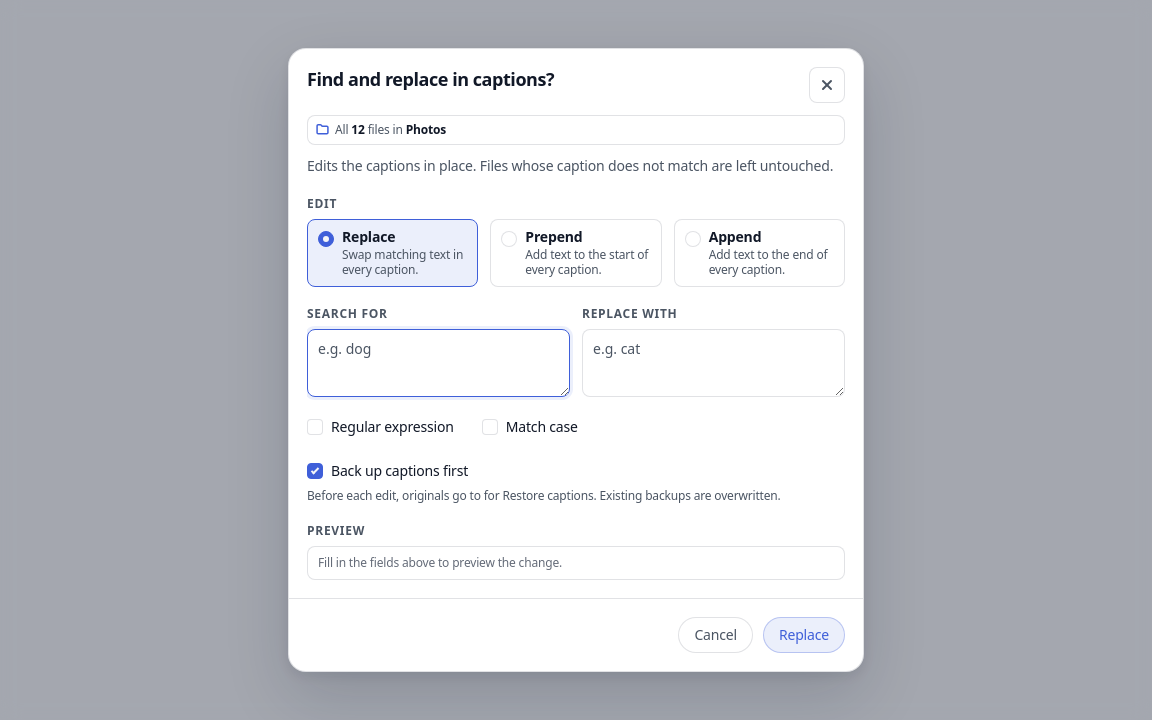
ReplaceCaptionsDialog › refuses to submit without a search term
This screenshot has width=1152, height=720.
Click the button "Replace" at (804, 635), box [763,617,845,653]
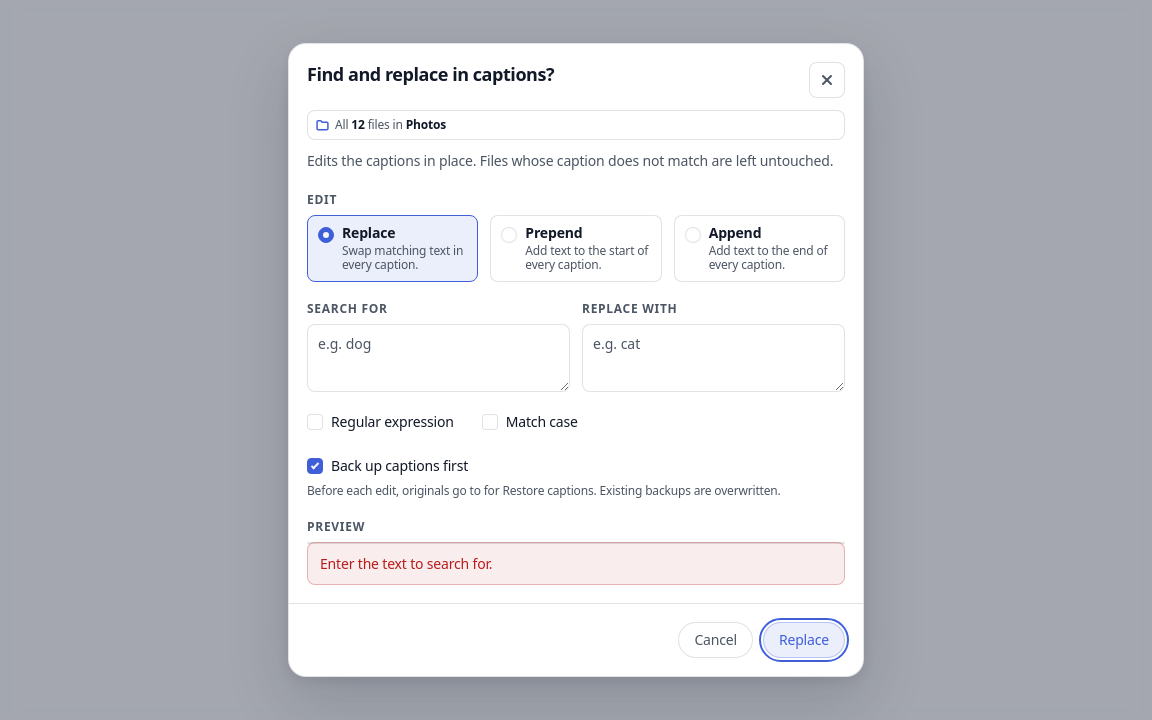
Now the message reads "Enter the text to search for.", box [320,554,492,573]
